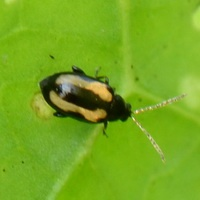insect: (40, 66, 185, 162)
